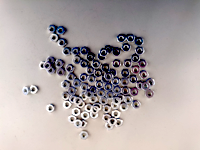nut: (135, 37, 144, 47), (112, 48, 122, 57), (131, 54, 140, 64), (138, 60, 148, 69), (123, 60, 133, 69), (145, 90, 155, 99), (131, 101, 141, 110), (108, 117, 118, 126), (80, 83, 90, 92), (79, 119, 88, 129), (117, 34, 126, 43), (122, 44, 131, 53), (112, 60, 121, 69), (121, 69, 130, 78), (142, 82, 151, 91), (130, 88, 139, 97), (122, 87, 131, 96), (124, 96, 133, 105), (113, 86, 122, 95), (80, 131, 89, 140), (111, 101, 120, 110), (114, 119, 123, 128), (103, 114, 112, 123), (47, 104, 56, 113), (57, 26, 66, 35), (58, 39, 67, 48), (71, 47, 80, 56), (80, 47, 89, 56), (47, 66, 56, 75), (57, 68, 66, 77), (100, 48, 109, 57), (94, 69, 103, 78), (106, 91, 115, 100), (97, 89, 106, 98), (95, 81, 104, 90), (73, 79, 82, 88), (85, 90, 94, 99), (89, 86, 98, 95), (89, 95, 98, 104), (90, 111, 99, 120), (74, 120, 83, 129), (81, 112, 90, 121), (72, 108, 81, 117), (135, 47, 145, 55), (139, 71, 149, 79), (129, 76, 139, 84), (50, 34, 60, 42), (104, 73, 114, 81), (100, 96, 108, 106), (132, 66, 140, 75), (146, 79, 155, 87), (121, 79, 130, 87), (120, 104, 129, 112), (116, 95, 125, 103), (113, 97, 121, 106), (112, 111, 121, 119), (105, 123, 114, 131), (103, 105, 111, 114), (23, 87, 31, 96), (62, 48, 71, 56), (73, 57, 82, 65), (66, 65, 75, 73), (55, 60, 64, 68), (46, 57, 55, 65), (39, 62, 48, 70), (67, 73, 76, 81), (86, 54, 95, 62), (104, 46, 113, 54), (92, 61, 101, 69), (102, 64, 110, 73), (105, 83, 113, 92), (102, 75, 110, 84), (88, 75, 96, 84), (80, 60, 89, 68), (79, 74, 88, 82), (68, 87, 77, 95), (62, 92, 70, 101), (63, 101, 72, 109), (85, 104, 93, 113), (69, 116, 77, 125), (127, 35, 135, 43), (137, 82, 145, 90), (112, 78, 120, 86), (30, 86, 38, 94), (48, 25, 56, 33), (44, 62, 52, 70), (62, 81, 70, 89), (98, 53, 106, 61), (109, 69, 117, 77), (86, 67, 94, 75), (74, 98, 82, 106), (94, 103, 102, 111), (77, 101, 85, 109), (91, 107, 100, 114), (69, 96, 77, 103), (80, 93, 87, 101)
